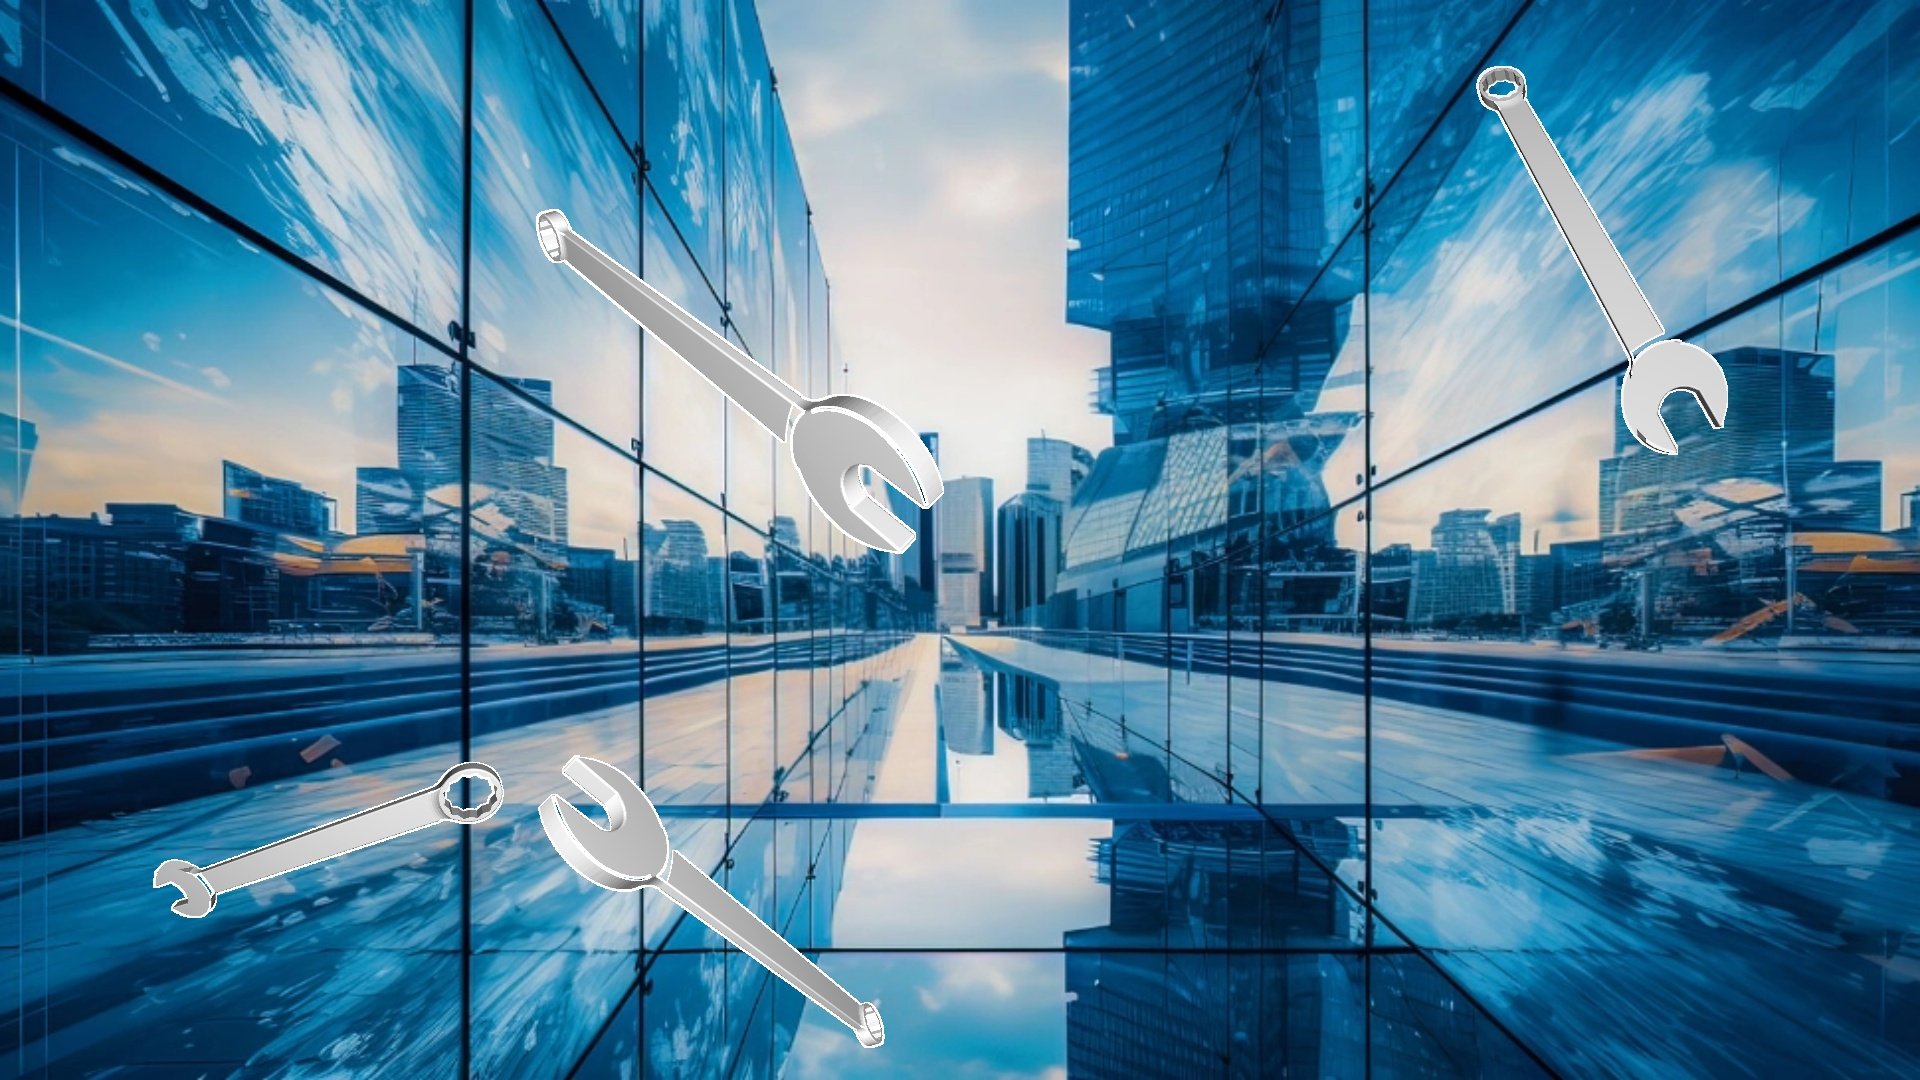Mixed Key: (535, 208, 943, 553), (538, 756, 884, 1047), (1476, 66, 1727, 454), (153, 762, 502, 916)
